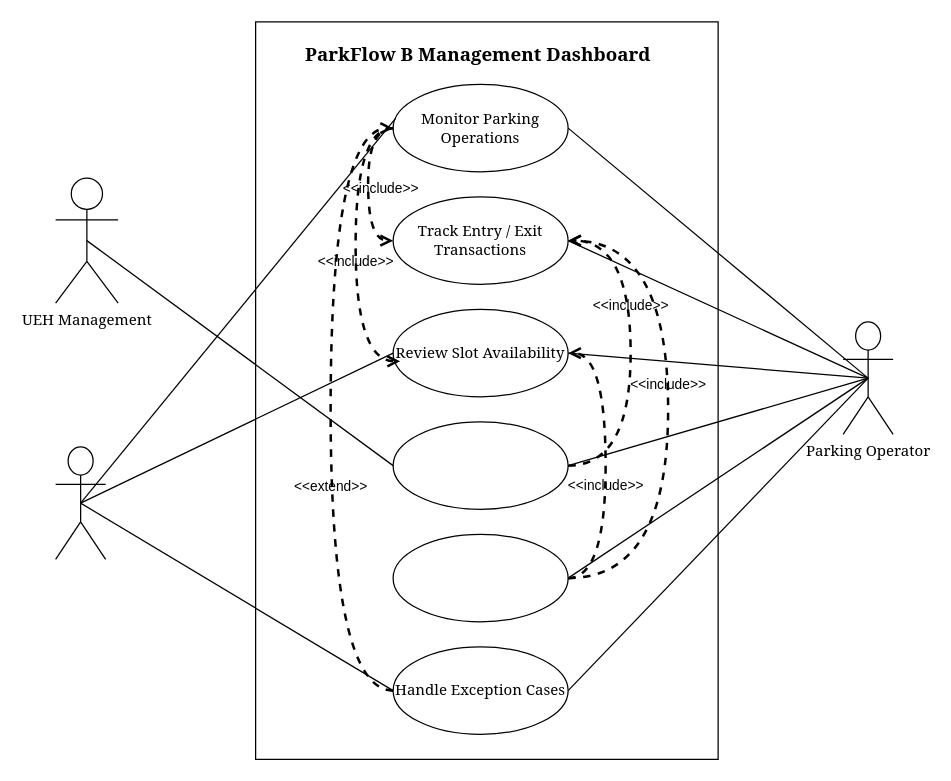
Image size: 951x781. Some labels were removed from this diagram. The shapes that lost their labels are listed below. From the top down, each one's centre as x and y in pixels, then its label:
(x=480, y=465): Track Revenue & Payment Status
(x=80, y=502): Security Guard
(x=480, y=577): Generate Operation Report
